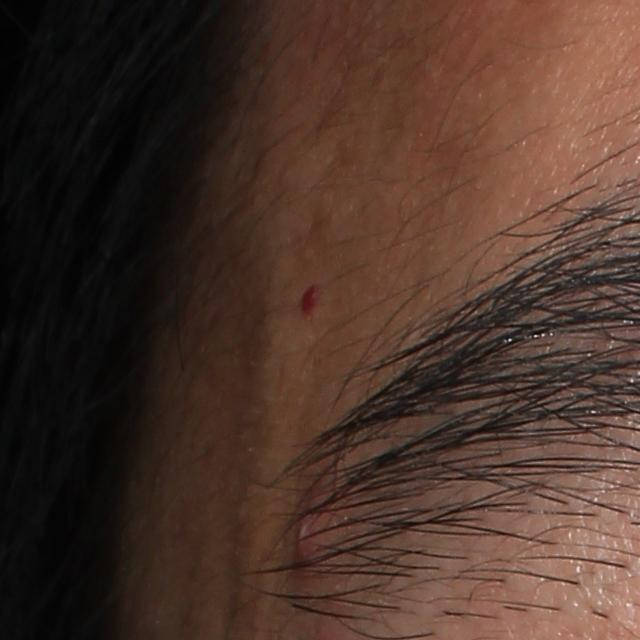papule: (295, 500, 346, 584), (297, 280, 323, 322)
